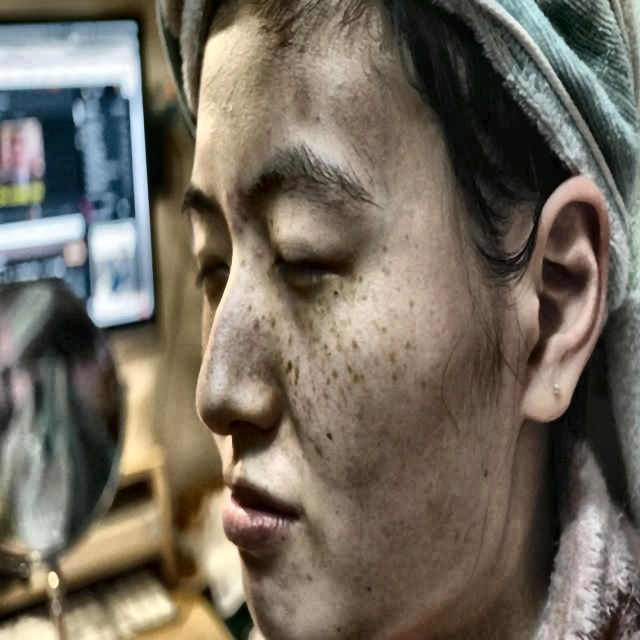comedone: (223, 205, 252, 242), (230, 174, 248, 201)
